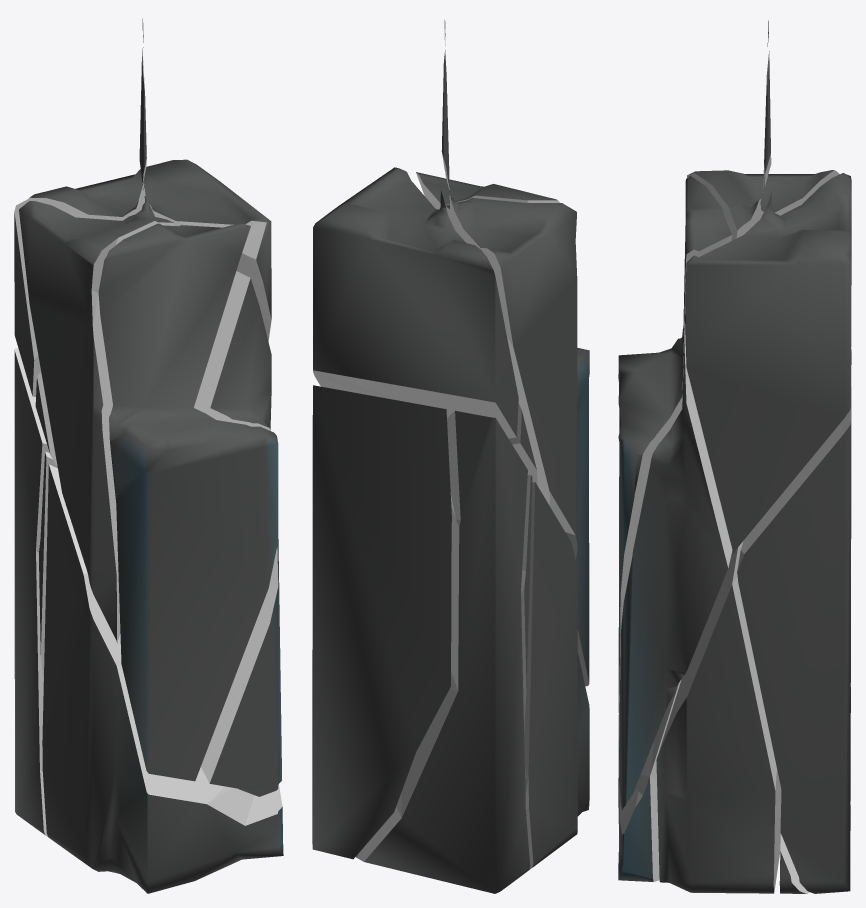
File: Skyscrapers.glb
The picture shows the model from 3 angles, left to right: view 1: azimuth 30°, elevation 25°; view 2: azimuth 150°, elevation 25°; view 3: azimuth 270°, elevation 25°; orthographic projection. The views are drawn at different scales.
Parts seen in each view (by area): view 1: Root.006, Root, Root.001, Root.003, Root.008, Root.002, Root.005, Root.009; view 2: Root.007, Root.002, Root.008, Root.001, Root, Root.006, Root.005, Root.003, Root.009; view 3: Root.008, Root.007, Root.005, Root.003, Root.006, Root.001, Root, Root.002, Root.009.
Boxes of the visible parts, box(x1,y1,x2,y2) form: Root.006: box(98, 223, 278, 781); Root: box(42, 464, 283, 893); Root.001: box(19, 196, 173, 642); Root.003: box(35, 271, 281, 796); Root.008: box(14, 159, 271, 396); Root.002: box(14, 348, 49, 837); Root.005: box(39, 451, 57, 681); Root.009: box(139, 48, 146, 183); Root.007: box(312, 385, 451, 859); Root.002: box(356, 410, 530, 893); Root.008: box(313, 167, 518, 438); Root.001: box(445, 196, 577, 559); Root: box(524, 482, 589, 869); Root.006: box(416, 172, 589, 686); Root.005: box(521, 475, 532, 732); Root.003: box(509, 403, 537, 485); Root.009: box(441, 50, 449, 185); Root.008: box(685, 173, 851, 554); Root.007: box(737, 349, 851, 893); Root.005: box(656, 541, 781, 893); Root.003: box(619, 307, 732, 809); Root.006: box(618, 175, 732, 736); Root.001: box(682, 170, 839, 336); Root: box(618, 679, 681, 881); Root.002: box(779, 347, 851, 893); Root.009: box(763, 51, 771, 186).
Bounding box in the file's own units: 6.43 × 26.85 × 6.79.
